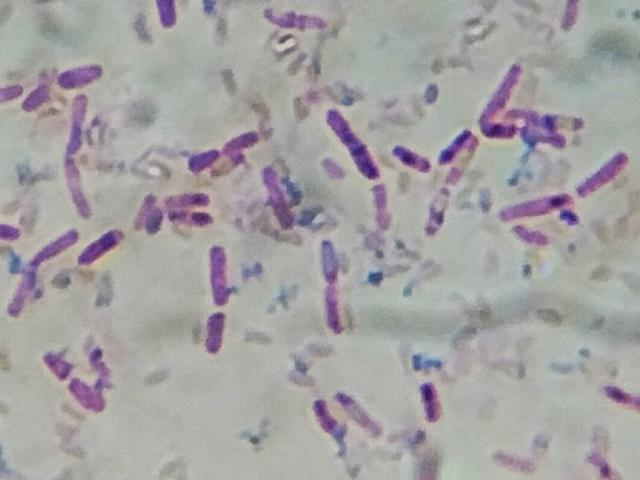E. coli: (65, 91, 105, 218), (327, 110, 381, 179), (315, 239, 347, 335), (259, 162, 301, 233), (581, 147, 634, 202), (191, 132, 259, 174), (501, 187, 570, 224), (203, 243, 238, 309), (488, 117, 562, 146), (71, 376, 112, 423), (513, 107, 586, 133), (392, 137, 435, 177), (5, 262, 36, 317), (338, 389, 377, 432), (31, 229, 81, 262), (82, 229, 130, 263), (53, 59, 106, 87), (202, 306, 232, 354), (492, 65, 525, 107), (313, 399, 341, 446), (133, 193, 164, 234), (599, 379, 636, 413), (449, 126, 480, 166), (165, 186, 212, 211), (423, 376, 446, 427), (554, 0, 583, 40), (42, 346, 75, 379), (371, 186, 390, 232), (152, 0, 181, 29), (161, 209, 210, 226), (23, 83, 47, 111), (2, 216, 23, 247), (0, 77, 16, 104)
